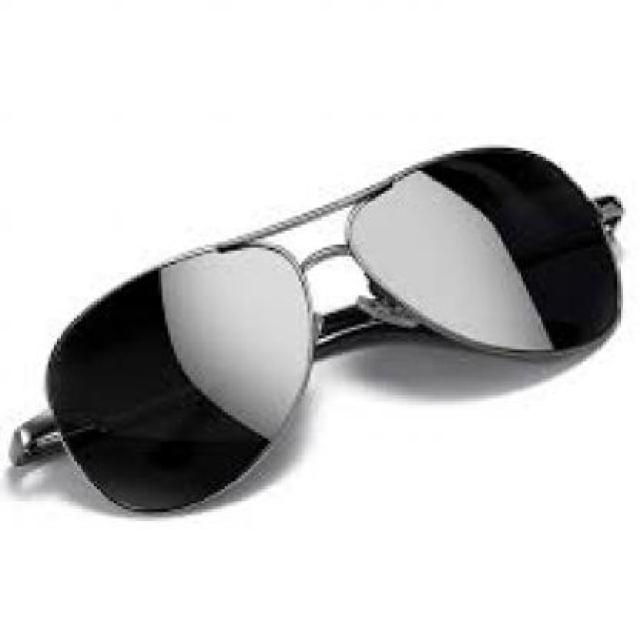gozluk: (0, 134, 632, 568)
